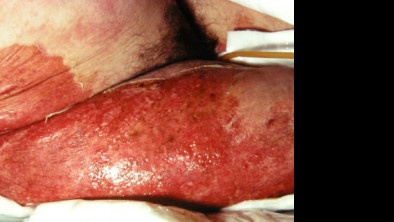SJS-TEN: (0, 0, 298, 216)
